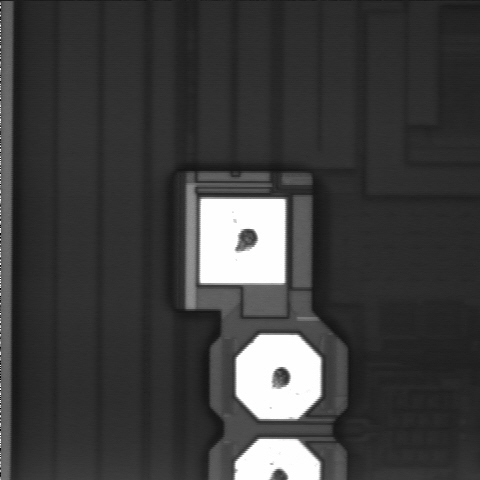pad: (200, 199, 285, 283), (236, 335, 321, 419)
